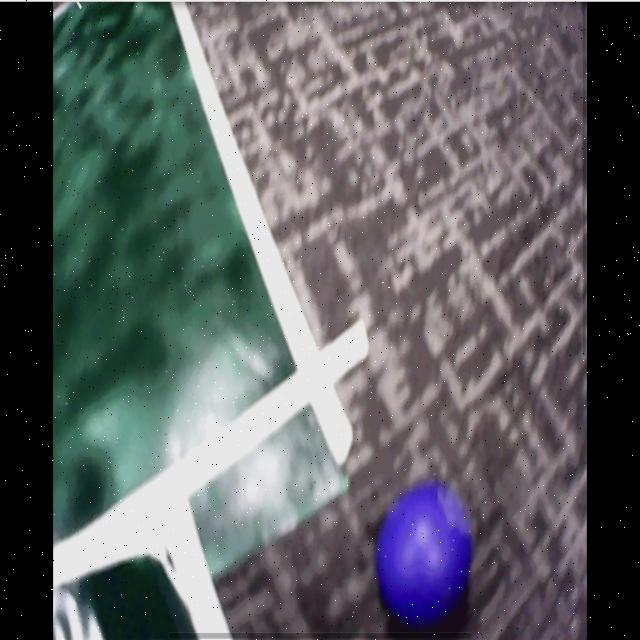ball: (374, 480, 475, 626)
